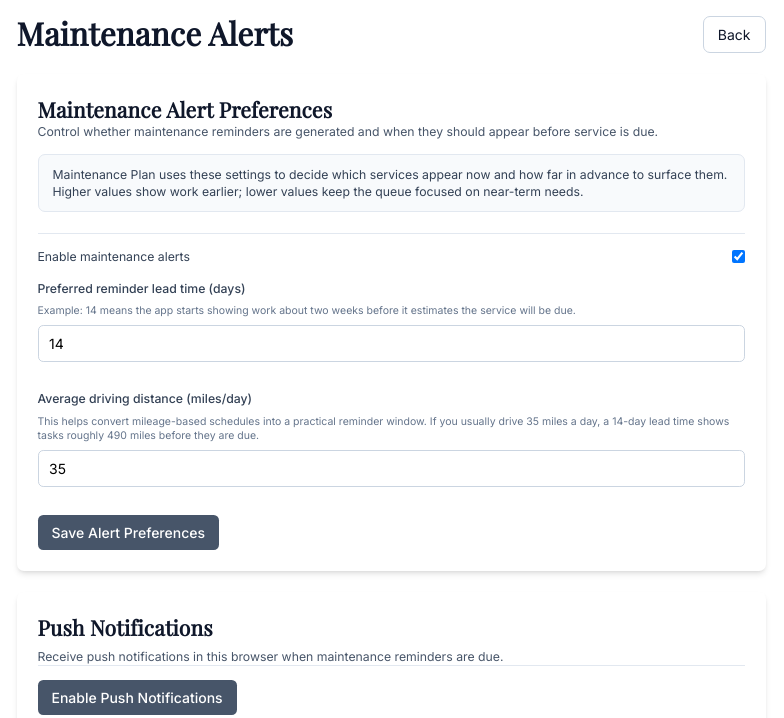
MaintenanceAlerts – push notification opt-in › shows error when requestNotificationPermission returns null
Click the button "Enable Push Notifications" at (137, 698), box [38,680,237,715]
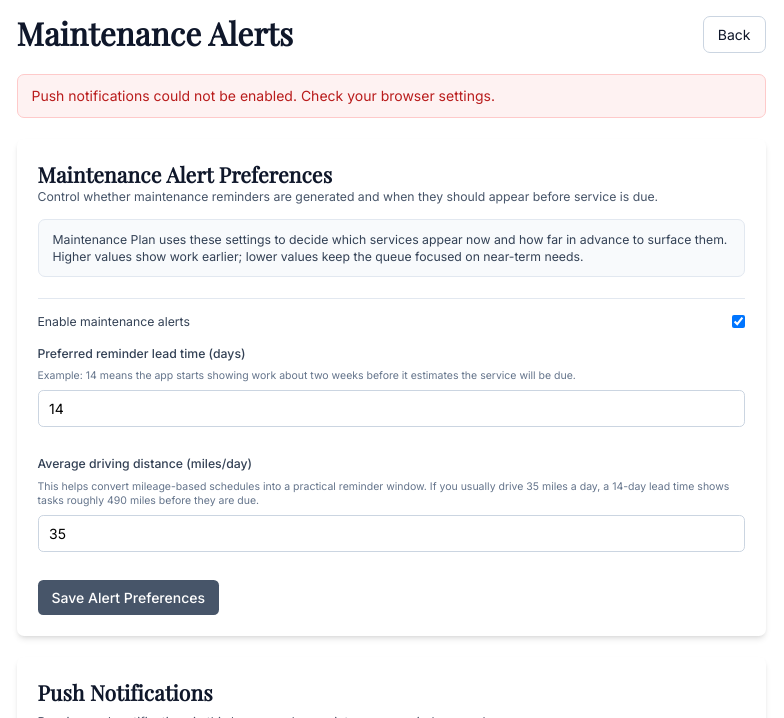
Expected: the text "Push notifications could not be enabled. Check your browser settings." is shown, [16,74,766,118]
